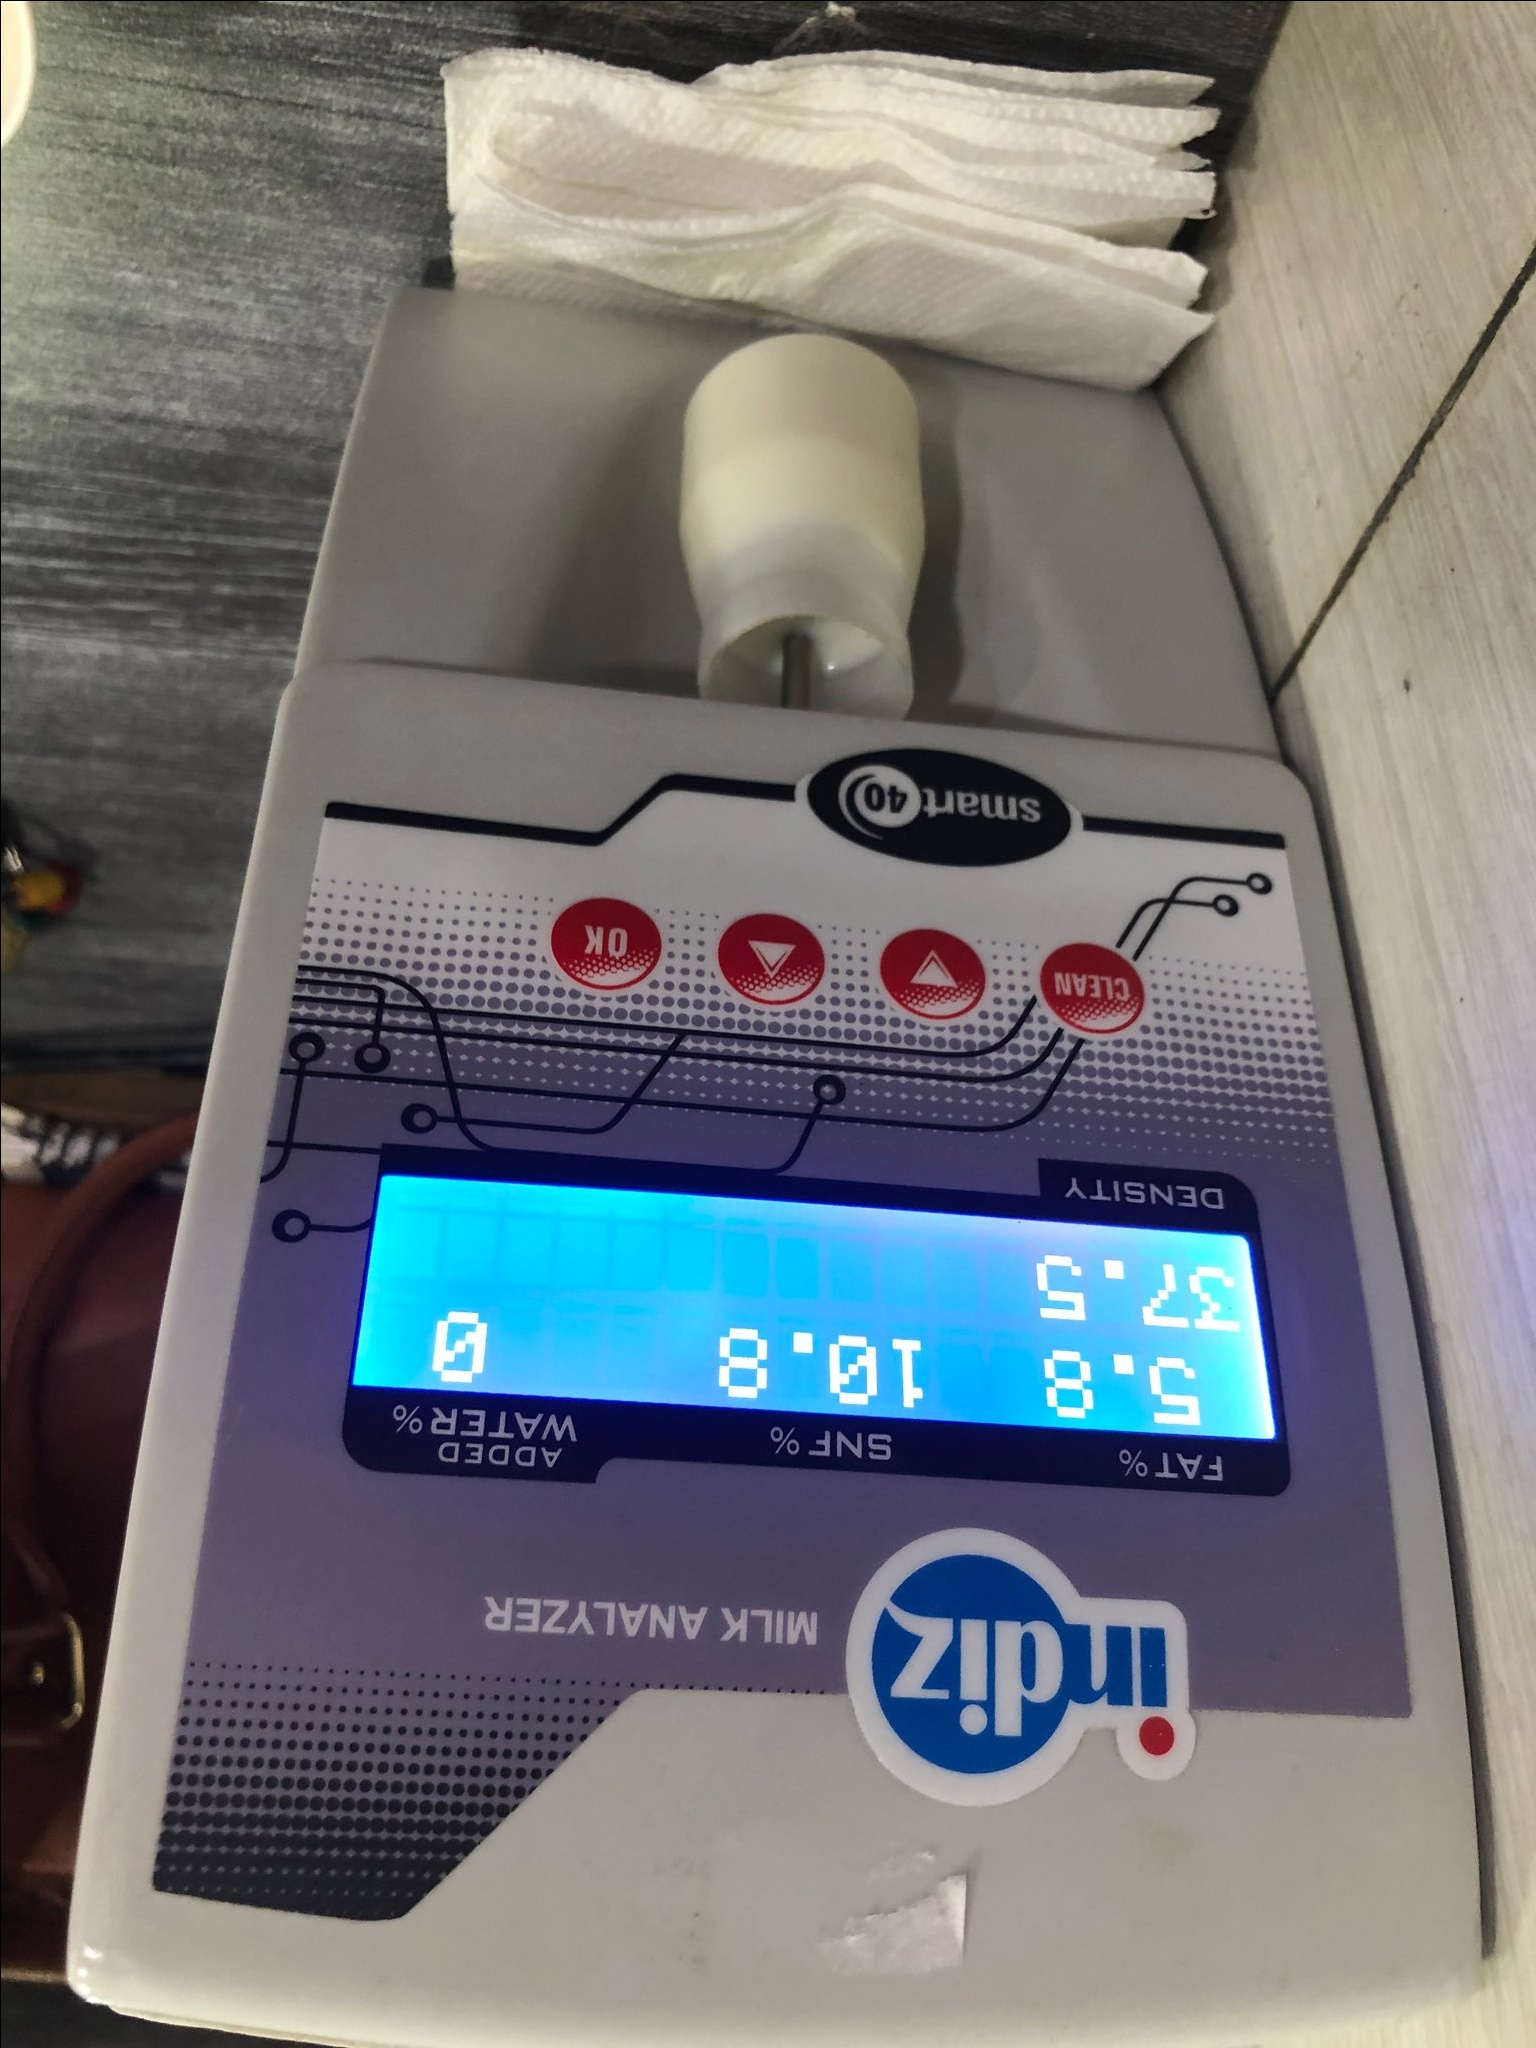lcd: (323, 1130, 1304, 1555)
